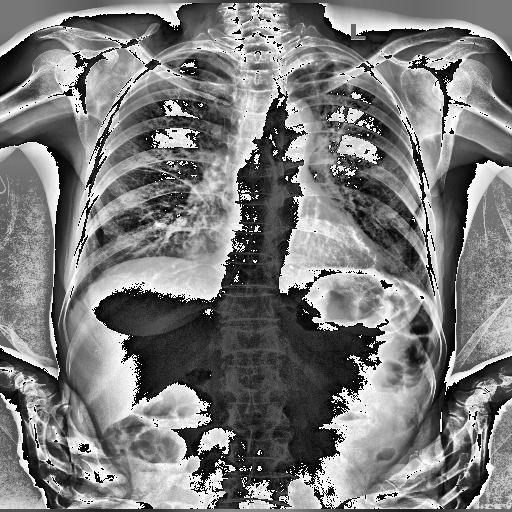11- Pleural thickening: (281, 42, 357, 74)
13- Pulmonary fibrosis: (301, 56, 371, 146), (306, 62, 344, 162), (130, 164, 210, 208), (135, 160, 210, 206), (134, 164, 210, 208), (364, 244, 380, 270)
